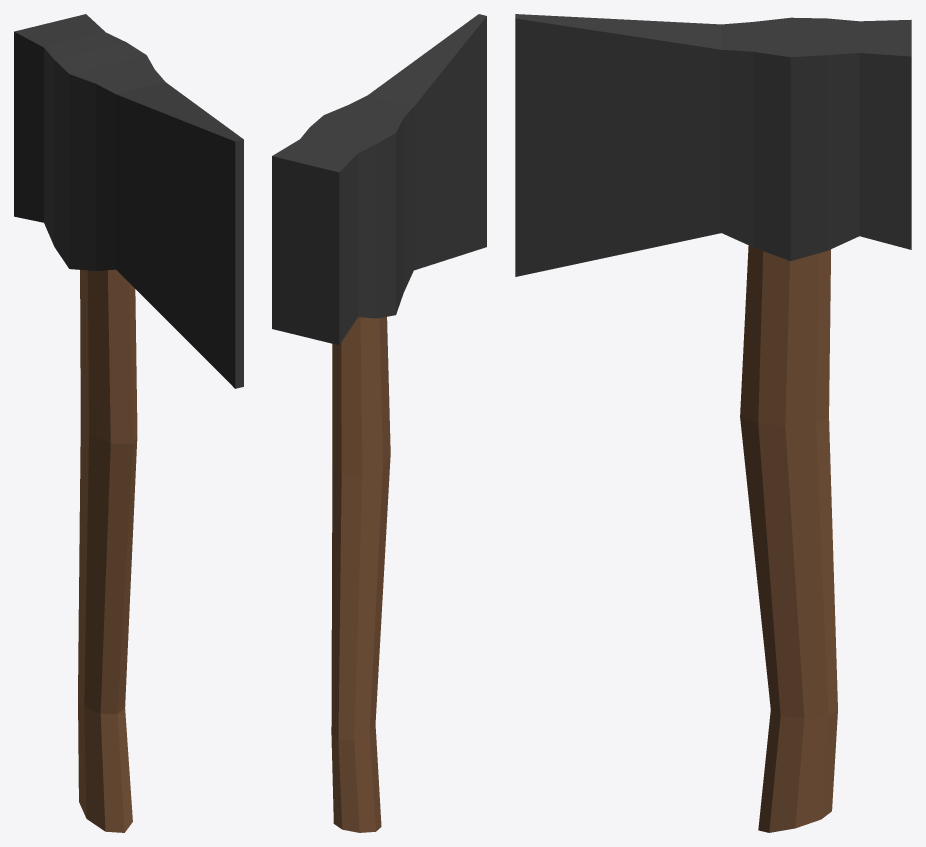
The model's file is Axe.fbx.
The picture shows the model from 3 angles, left to right: view 1: azimuth 30°, elevation 25°; view 2: azimuth 150°, elevation 25°; view 3: azimuth 270°, elevation 25°; orthographic projection. The views are drawn at different scales.
Parts seen in each view (by area): view 1: Cube, Cylinder; view 2: Cube, Cylinder; view 3: Cube, Cylinder.
Part boxes in pixels (left/top/right/bottom): Cube: left=14, top=14, right=243, bottom=388; Cylinder: left=78, top=269, right=137, bottom=832; Cube: left=272, top=14, right=486, bottom=345; Cylinder: left=331, top=317, right=390, bottom=832; Cube: left=515, top=14, right=911, bottom=276; Cylinder: left=740, top=245, right=837, bottom=832.
Size of the model in its own units: 62.5 by 600 by 265.
